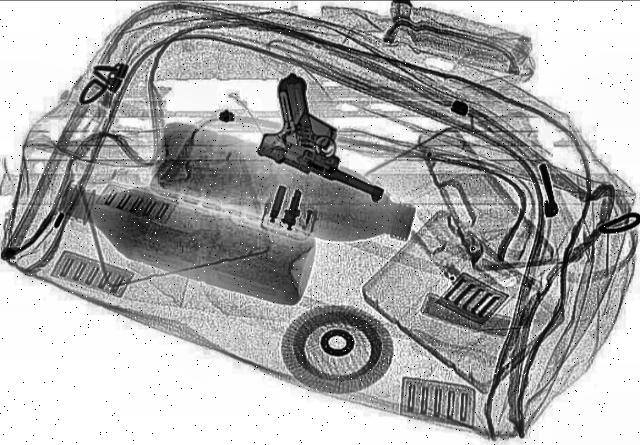Gun: (222, 73, 440, 201)
